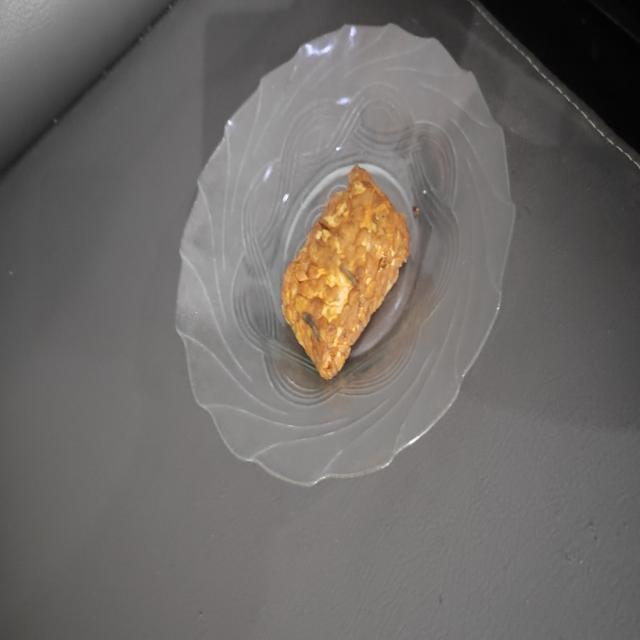tempe_goreng: (282, 166, 409, 380)
